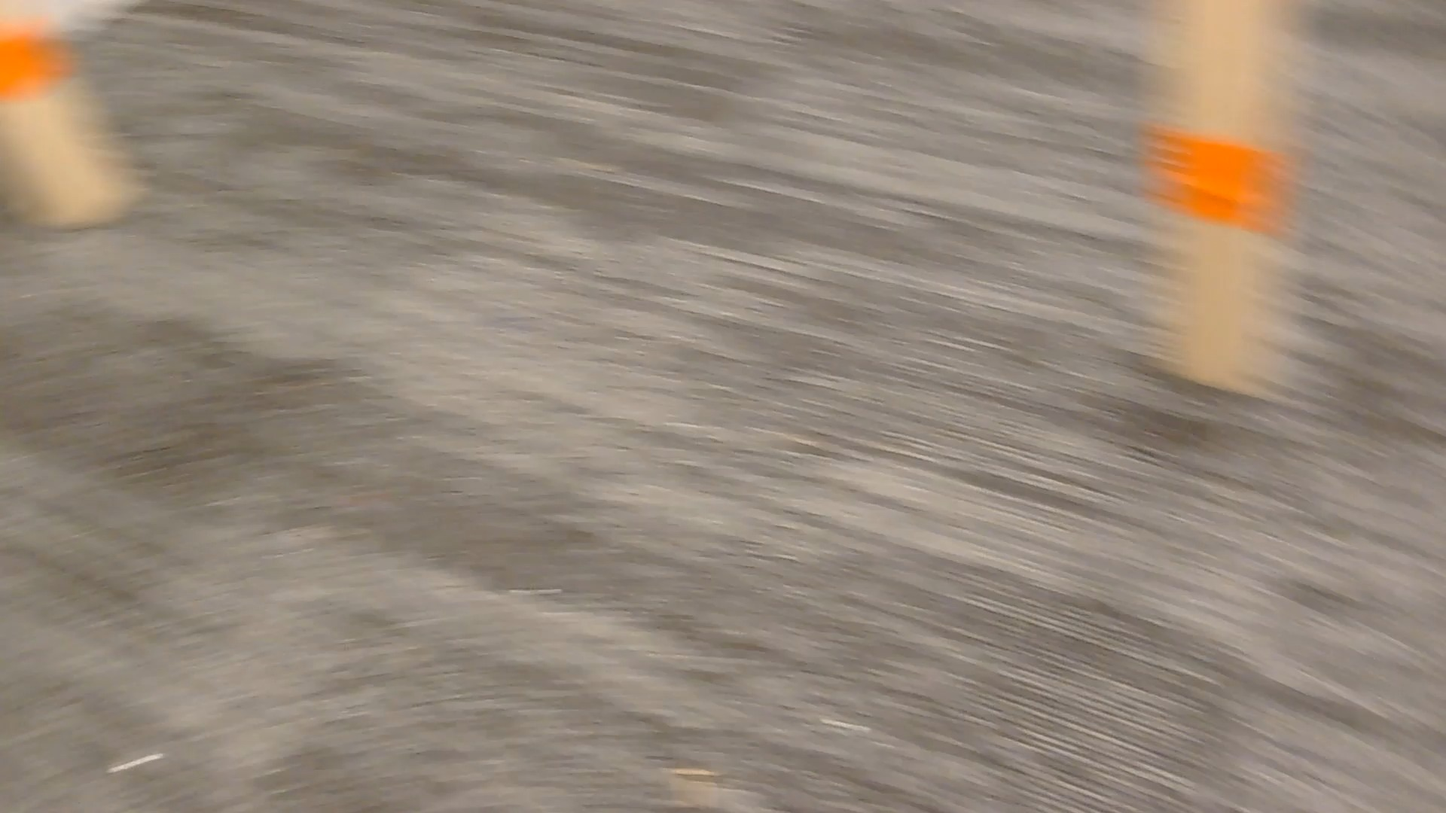Wooden Block: (1158, 0, 1288, 388), (0, 0, 137, 226)
